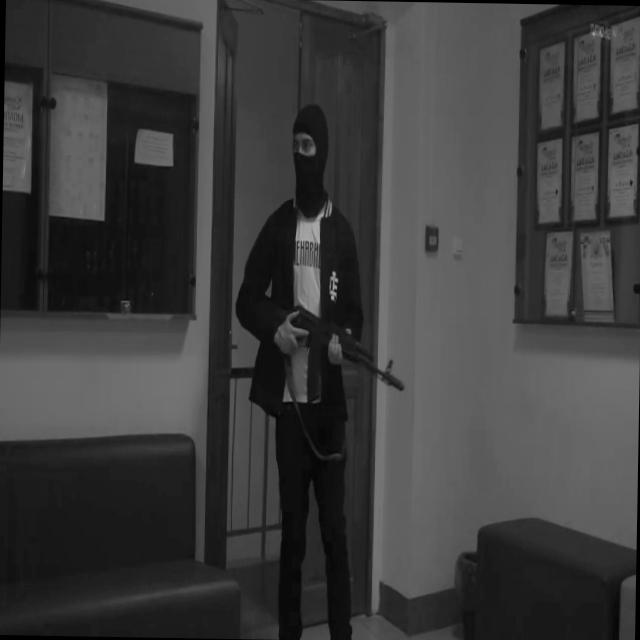gun: (258, 291, 407, 405)
person with a gun: (229, 101, 409, 640)
